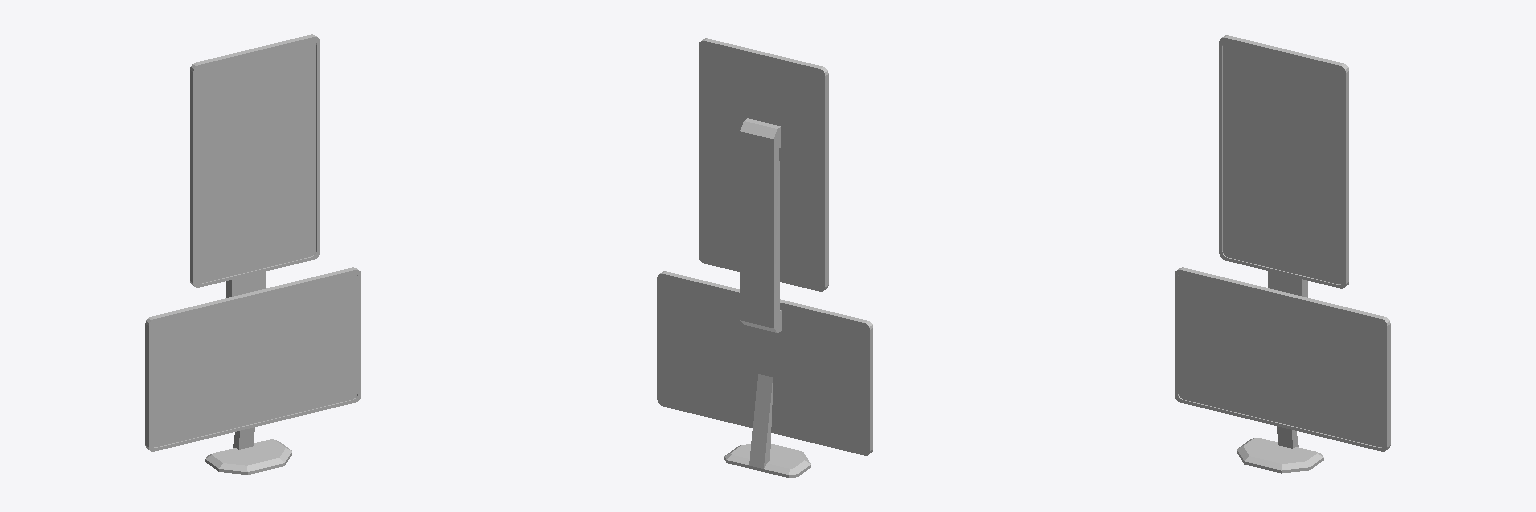
File: display.001.obj
The picture shows the model from 3 angles: view 1: azimuth 30°, elevation 25°; view 2: azimuth 150°, elevation 25°; view 3: azimuth 330°, elevation 25°; orthographic projection.
Parts seen in each view (by area): view 1: display.001; view 2: display.001; view 3: display.001.
Part boxes in pixels (bbox=[...]): display.001: bbox=[145, 34, 360, 474]; display.001: bbox=[657, 38, 872, 477]; display.001: bbox=[1175, 35, 1390, 473].
Bounding box in the file's own units: 0.684 × 1.25 × 0.1516.